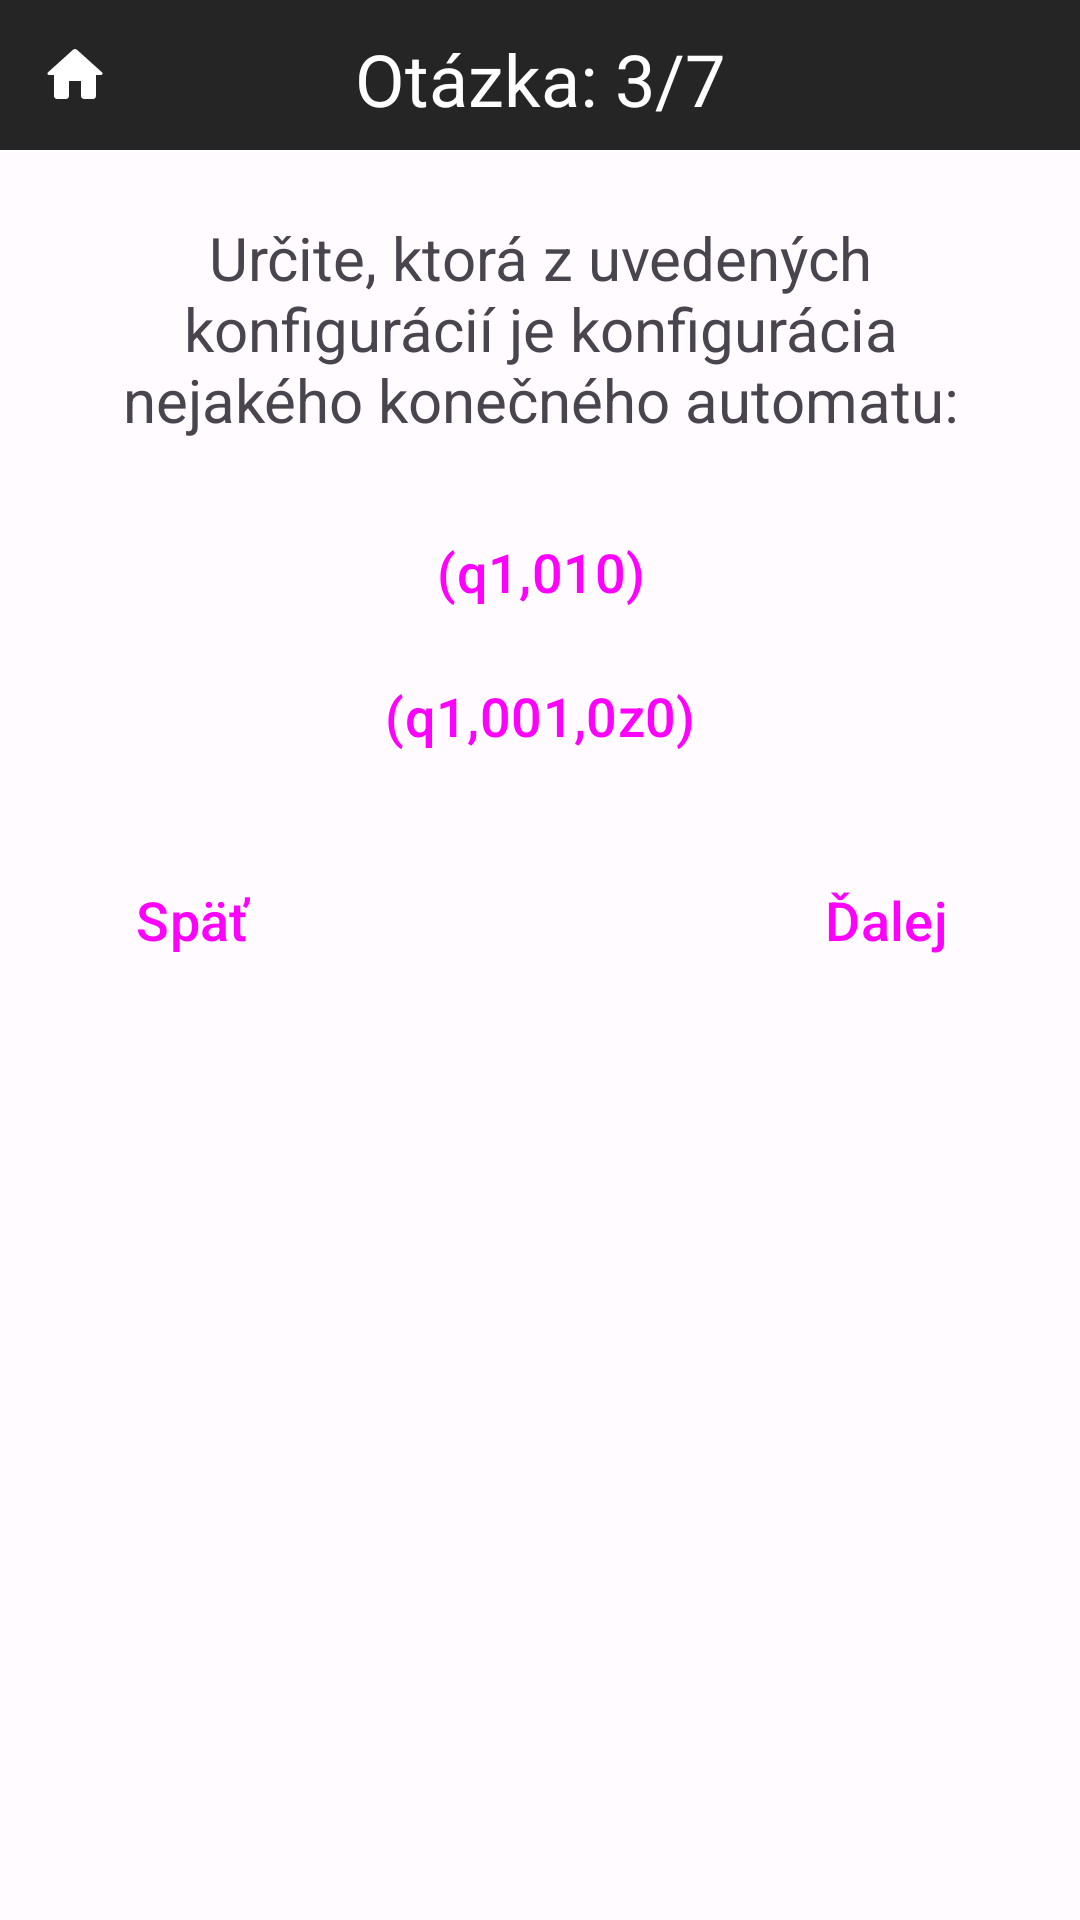

Screen size 1080px x 1920px. Icon name, then its center in pixels as (x,y):
domov: (75,74)
